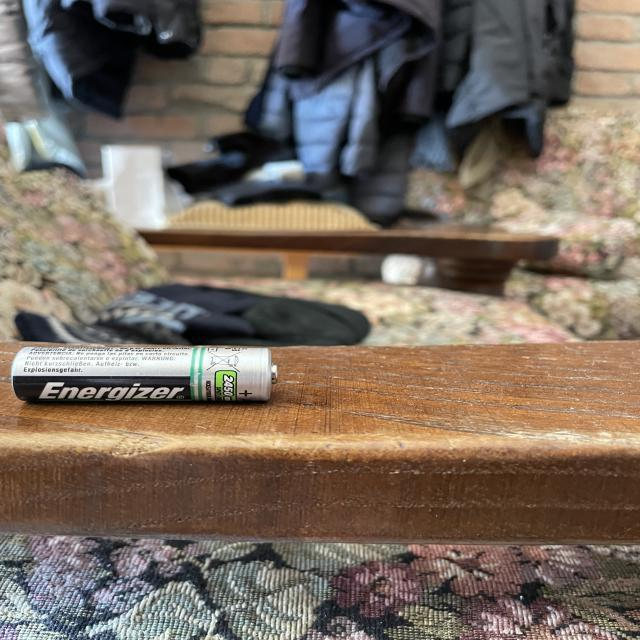Hazard: (15, 340, 284, 412)
